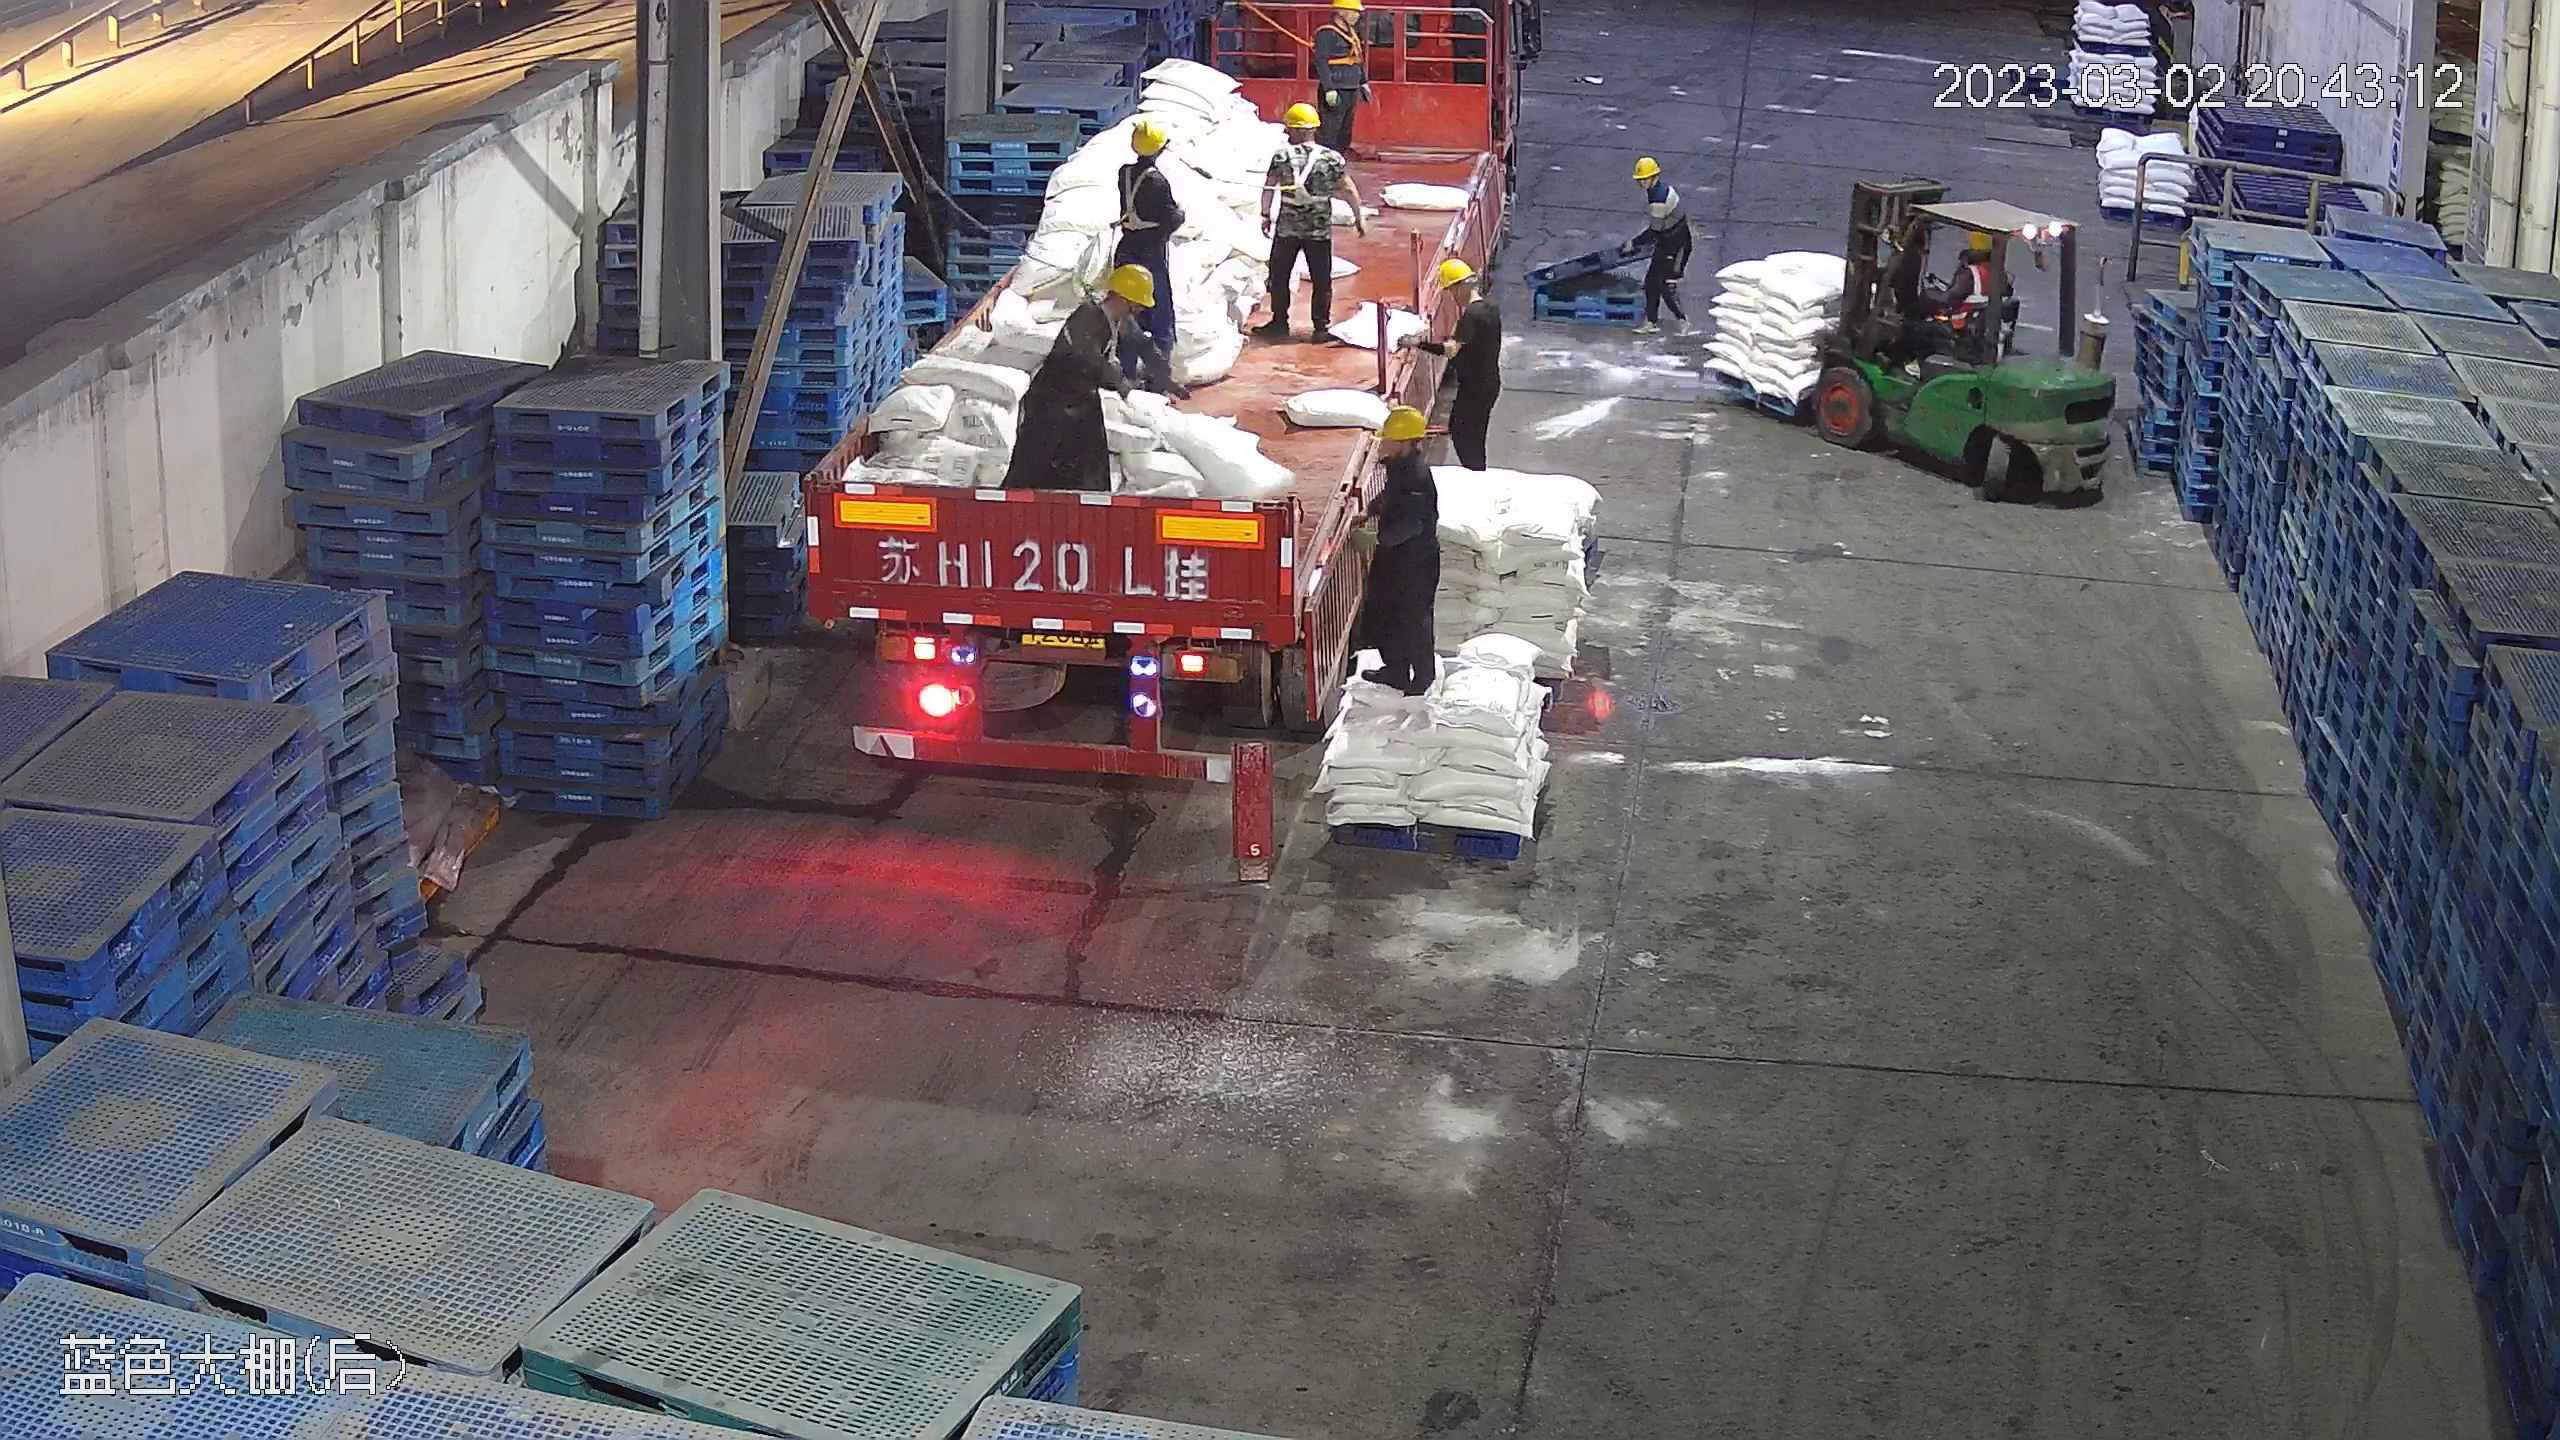belt: (1060, 299, 1129, 372), (1116, 166, 1168, 231), (1277, 144, 1327, 201), (1315, 1, 1368, 55), (1452, 288, 1500, 341)
head: (1059, 258, 1153, 352), (1364, 404, 1441, 498), (1267, 99, 1336, 172), (1431, 258, 1497, 333), (1116, 120, 1175, 196), (1950, 227, 2004, 284), (1631, 156, 1686, 214), (1311, 1, 1369, 45)
helmet: (1101, 262, 1155, 305), (1376, 404, 1427, 439), (1318, 1, 1367, 36), (1127, 118, 1167, 151), (1434, 257, 1473, 287), (1284, 100, 1320, 127), (1963, 225, 1995, 251), (1633, 156, 1659, 179)
people: (785, 34, 1523, 792), (1008, 260, 1178, 497), (1341, 400, 1443, 698), (1254, 95, 1349, 344), (1109, 118, 1189, 370), (1414, 257, 1501, 473), (1627, 155, 1695, 334), (1305, 1, 1377, 165), (1916, 225, 2010, 349)
truck: (805, 22, 1505, 800), (1010, 261, 1180, 498)
